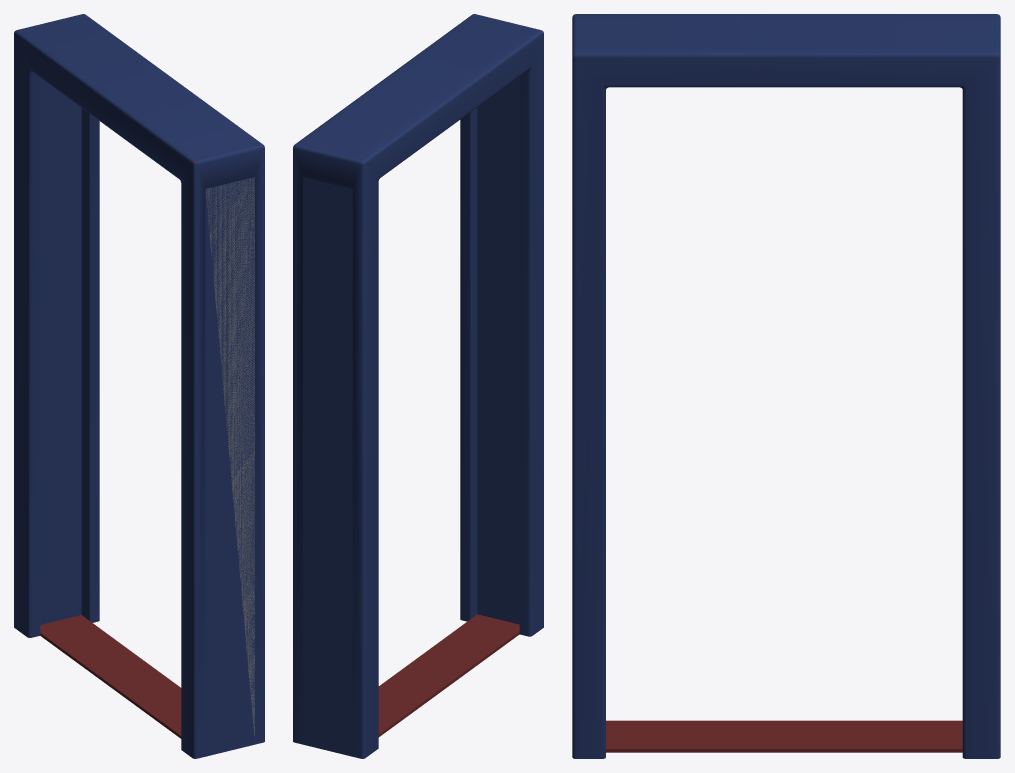
Rendered from KAPI-CERCEVE.fbx.
3 views of the same model, side by side, from view 1: azimuth 30°, elevation 25°; view 2: azimuth 150°, elevation 25°; view 3: azimuth 270°, elevation 25° (orthographic). The views are drawn at different scales.
Visible parts, largest first — view 1: Box044, Group004; view 2: Box044, Group004; view 3: Box044, Group004.
Part boxes in pixels (<box>): Box044: <box>14,14,264,758</box>; Group004: <box>40,615,181,738</box>; Box044: <box>293,14,543,758</box>; Group004: <box>378,614,519,737</box>; Box044: <box>572,14,1000,758</box>; Group004: <box>606,720,962,752</box>.
Bounding box in the file's own units: 25.83 × 205 × 113.
